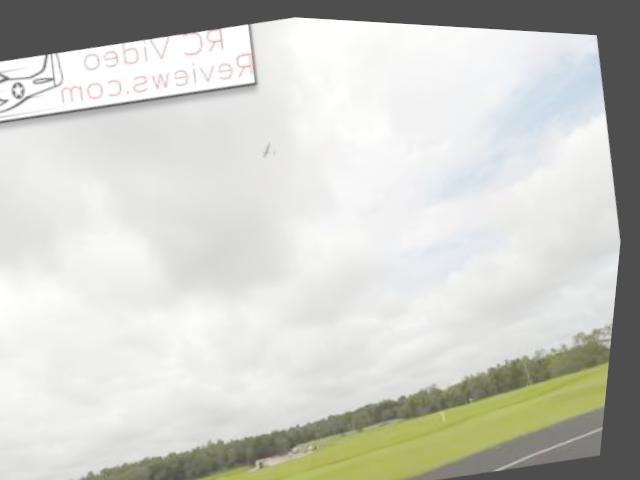uav: (249, 125, 290, 170)
